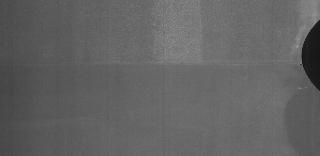welding line: (2, 58, 300, 72)
